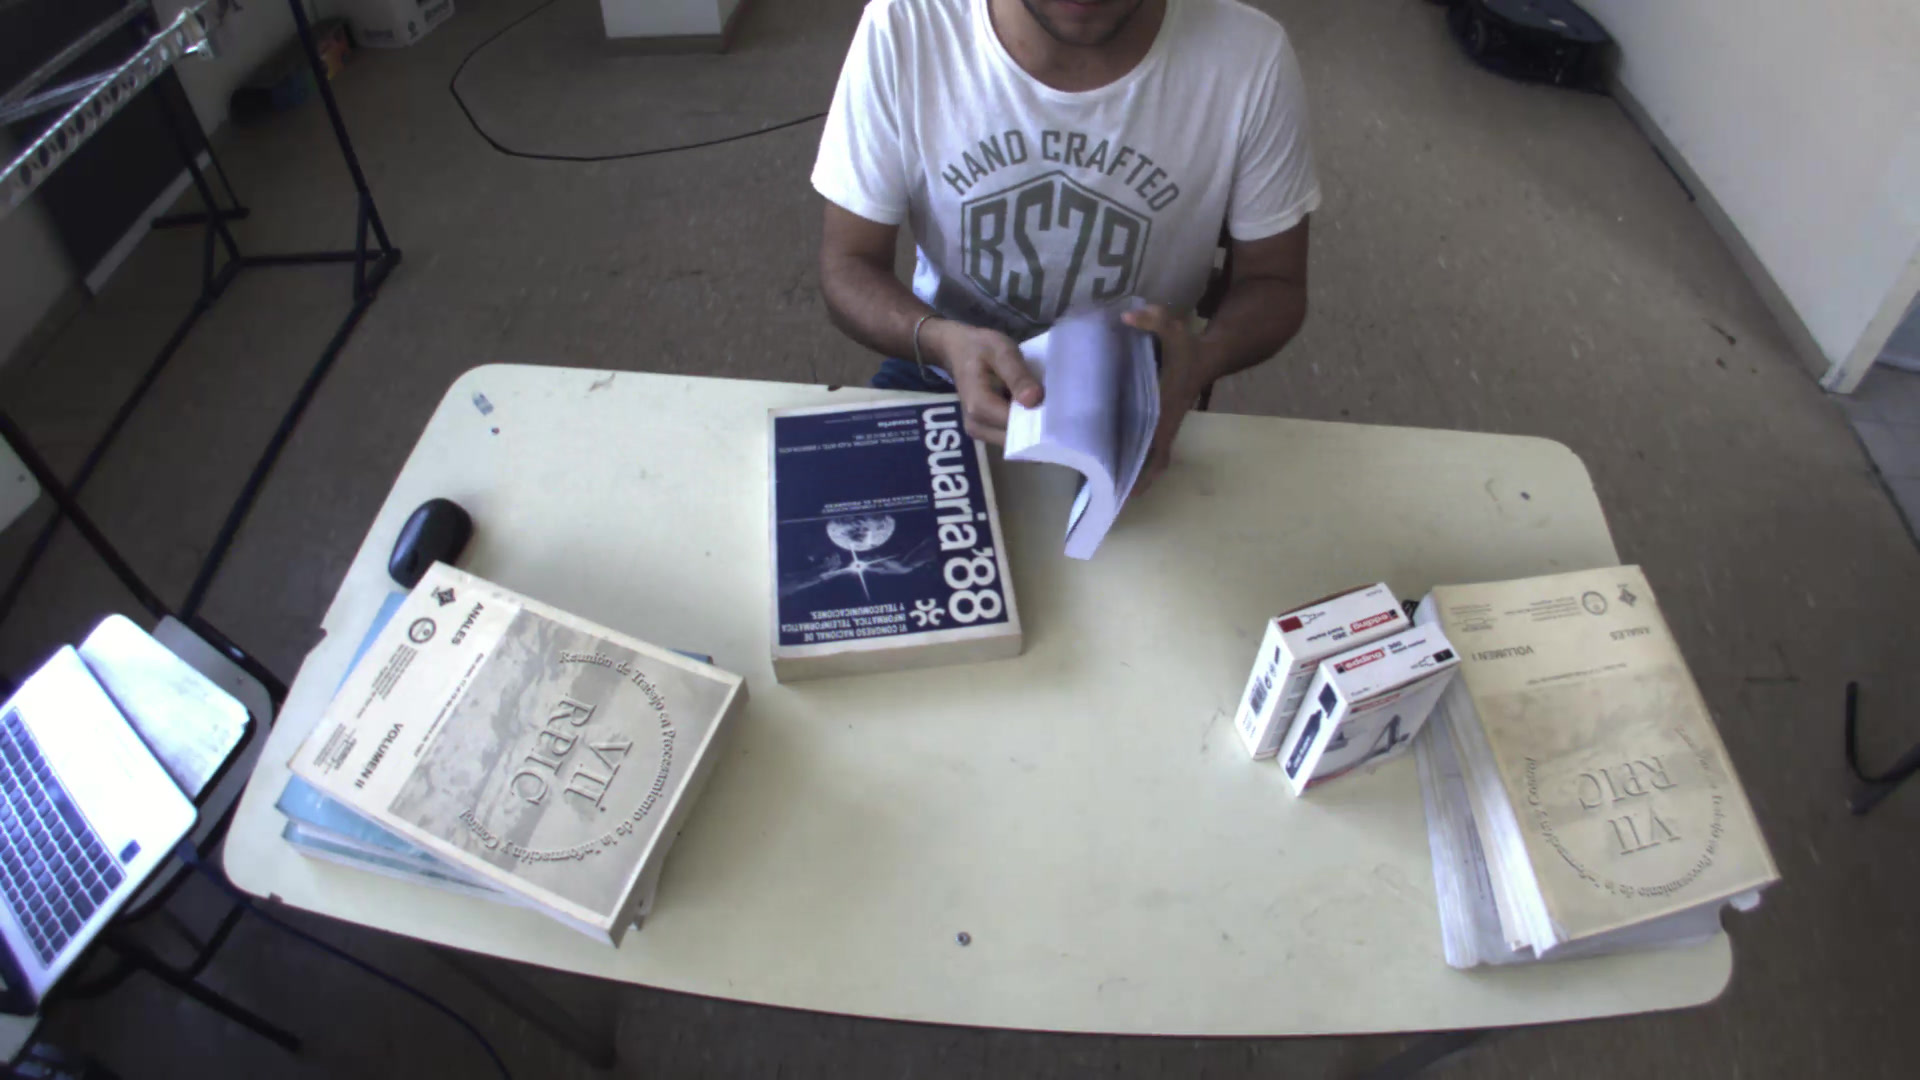hand: (1118, 278, 1224, 508), (930, 311, 1047, 447)
